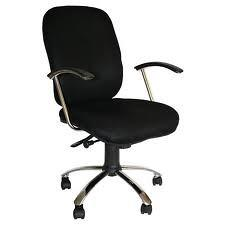chair: (42, 5, 184, 220)
